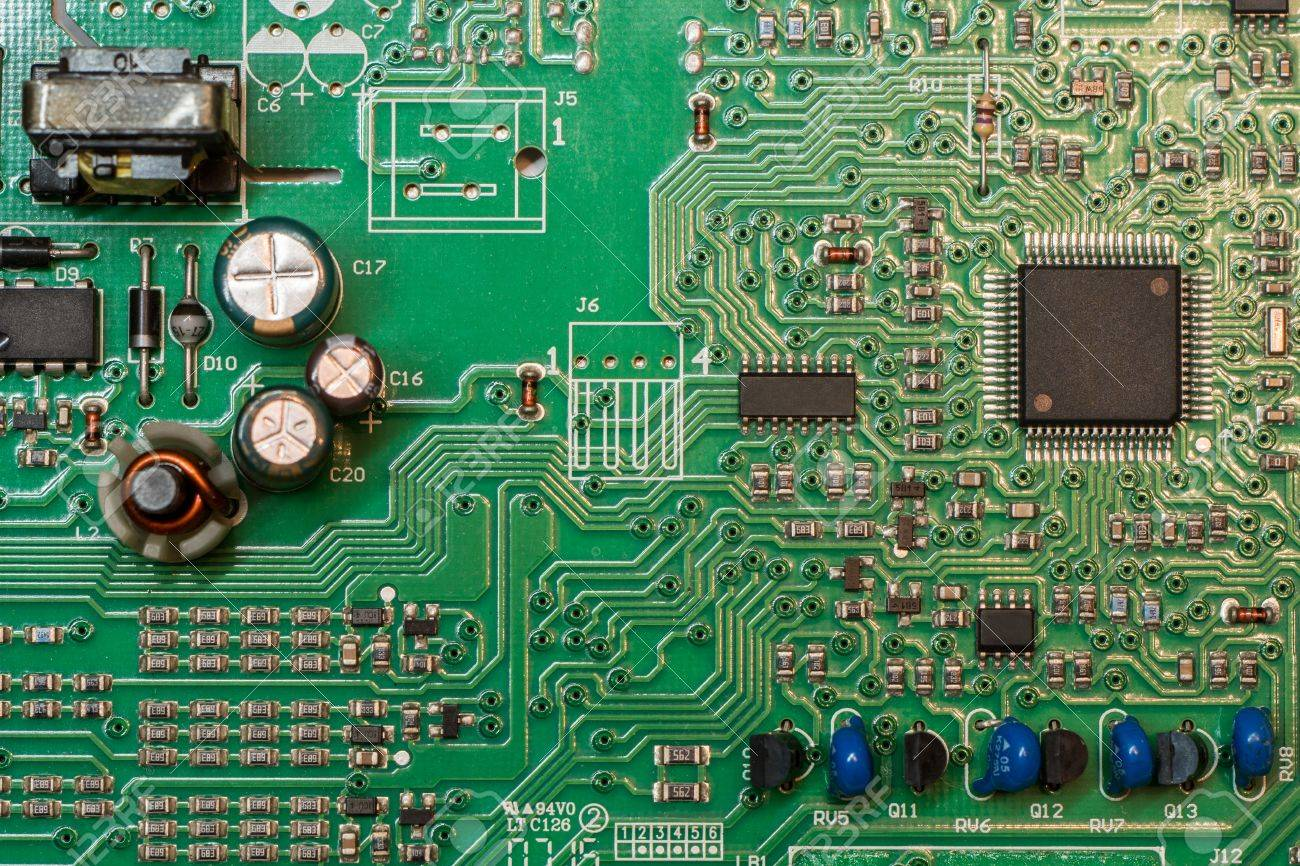capacitor: (207, 209, 345, 352), (306, 326, 401, 436), (238, 383, 324, 500)
